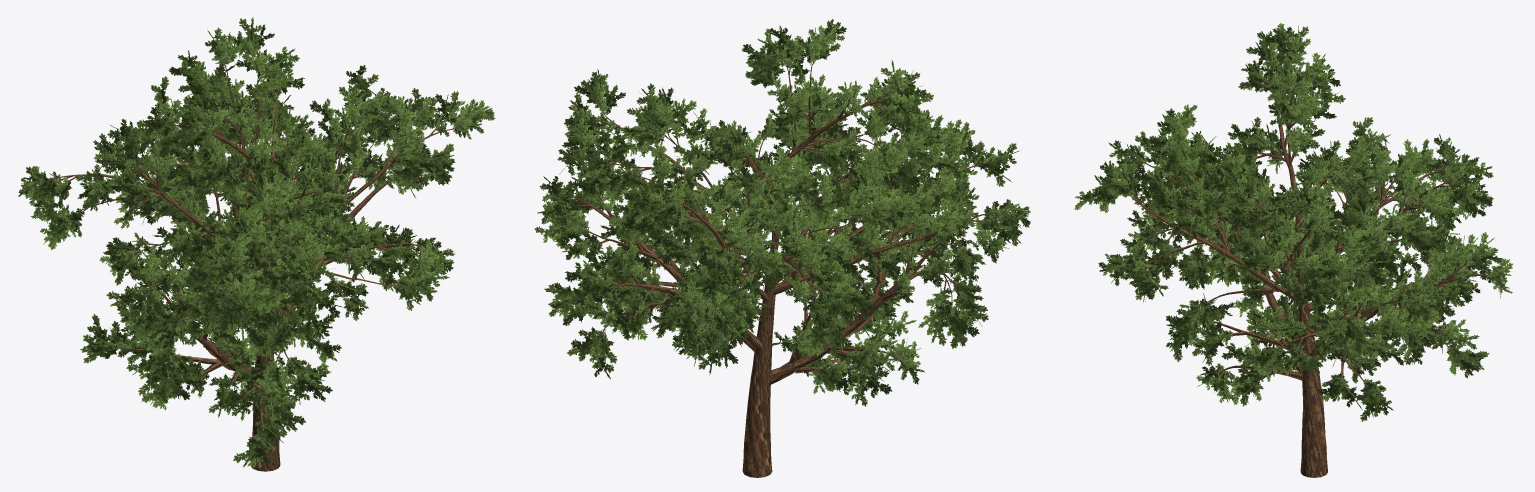
Rendered from tree (8).glb.
3 views of the same model, side by side, from view 1: azimuth 30°, elevation 25°; view 2: azimuth 150°, elevation 25°; view 3: azimuth 270°, elevation 25° (orthographic). The views are drawn at different scales.
Size of the model in its own units: 97.8 by 102 by 98.7.
Materials: 2 (2 with a texture image).
